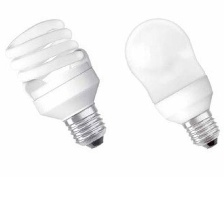light_bulb: (1, 16, 108, 156), (121, 13, 221, 154)
